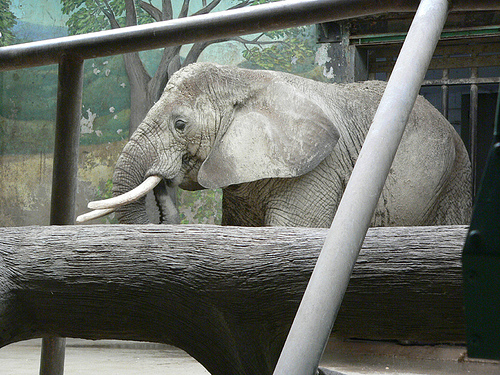elephant: (90, 56, 474, 282)
